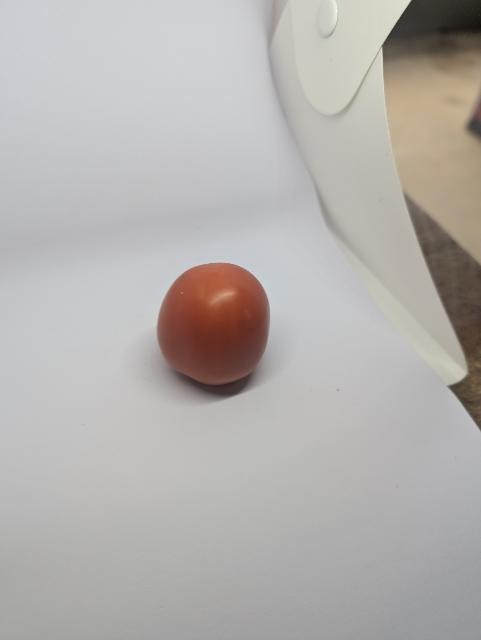red: (150, 248, 296, 405)
